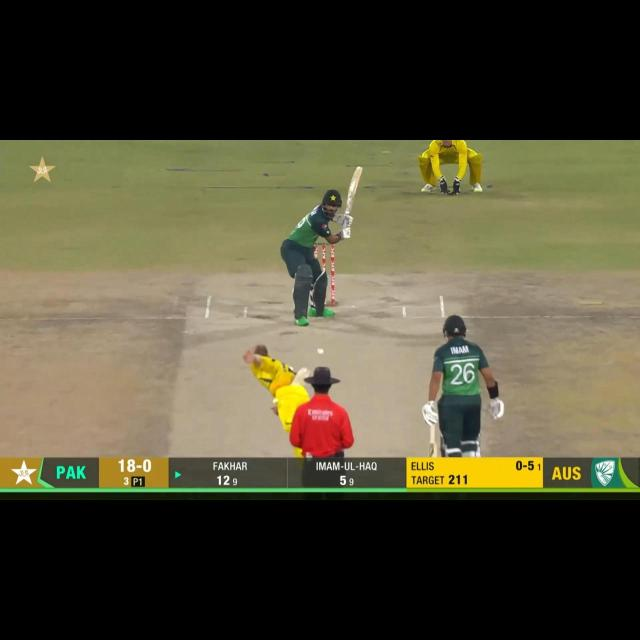bat: (343, 164, 366, 212), (428, 426, 437, 455)
toe: (351, 165, 365, 178)
